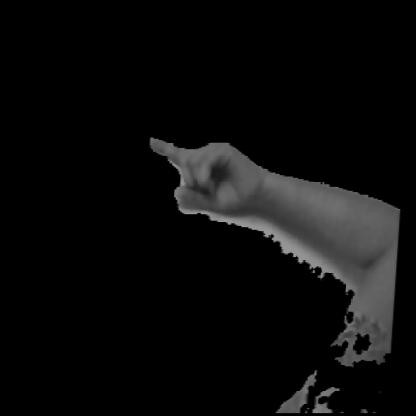one: (103, 79, 377, 277)
